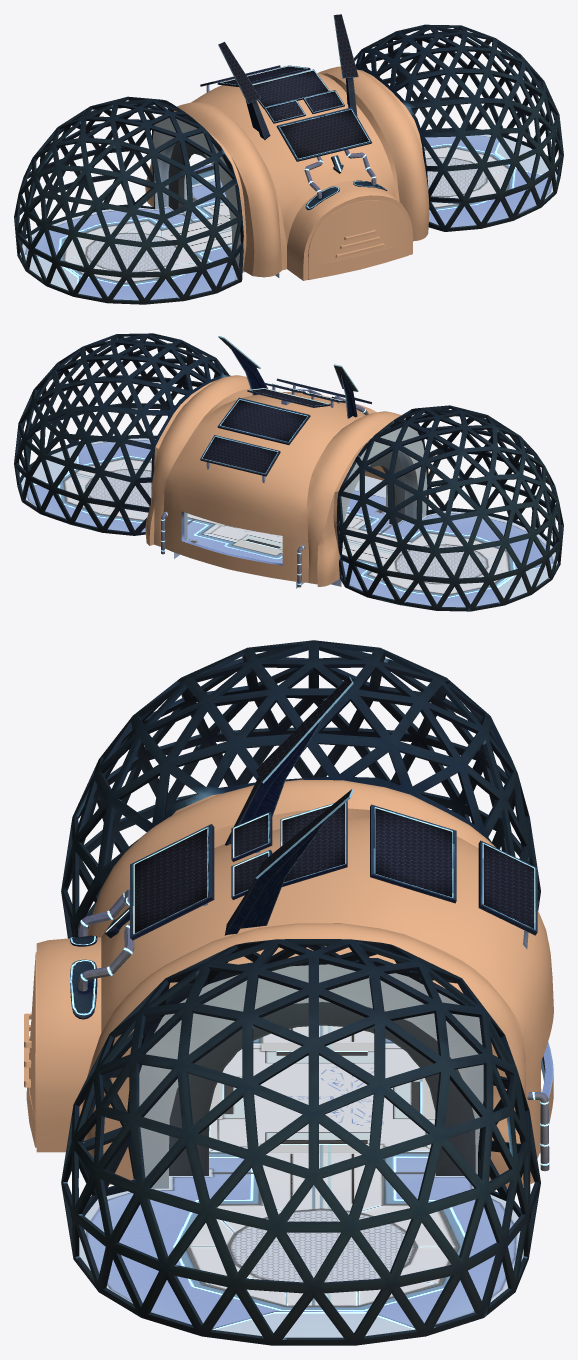
File: Estructura_High.fbx
3 renders of one model, top to bottom at view 1: azimuth 30°, elevation 25°; view 2: azimuth 150°, elevation 25°; view 3: azimuth 270°, elevation 25°, orthographic. The views are drawn at different scales.
Visible parts, largest first — view 1: Estructura, Puerta_Central, Panel1, Panel4, Antenas_Izq, Antenas_Der, Puerta_Izq, Puerta_Der, Panel5, Panel2, Panel3; view 2: Estructura, Panel5, Panel6, Antenas_Der, Panel4, Antenas_Izq; view 3: Estructura, Panel1, Panel5, Panel6, Antenas_Der, Antenas_Izq, Panel4, Panel2, Puerta_Central, Panel3.
Boxes of the visible parts, <box> form: Estructura: <box>14,24,563,304</box>; Puerta_Central: <box>308,200,408,266</box>; Panel1: <box>276,107,372,161</box>; Panel4: <box>252,69,329,108</box>; Antenas_Izq: <box>218,41,270,139</box>; Antenas_Der: <box>333,14,358,115</box>; Puerta_Izq: <box>308,255,368,279</box>; Puerta_Der: <box>360,242,408,269</box>; Panel5: <box>217,65,310,86</box>; Panel2: <box>264,99,305,123</box>; Panel3: <box>303,90,344,113</box>; Estructura: <box>14,333,563,611</box>; Panel5: <box>217,397,310,444</box>; Panel6: <box>200,435,280,476</box>; Antenas_Der: <box>218,336,267,395</box>; Panel4: <box>247,388,330,407</box>; Antenas_Izq: <box>333,364,358,418</box>; Estructura: <box>36,640,553,1345</box>; Panel1: <box>130,824,214,940</box>; Panel5: <box>370,804,456,903</box>; Panel6: <box>478,840,537,935</box>; Antenas_Der: <box>224,789,353,935</box>; Antenas_Izq: <box>225,676,353,845</box>; Panel4: <box>280,801,347,886</box>; Panel2: <box>231,811,272,861</box>; Puerta_Central: <box>24,952,36,1120</box>; Panel3: <box>231,850,272,899</box>.
Size of the model in its own units: 3687 by 1298 by 1635.
